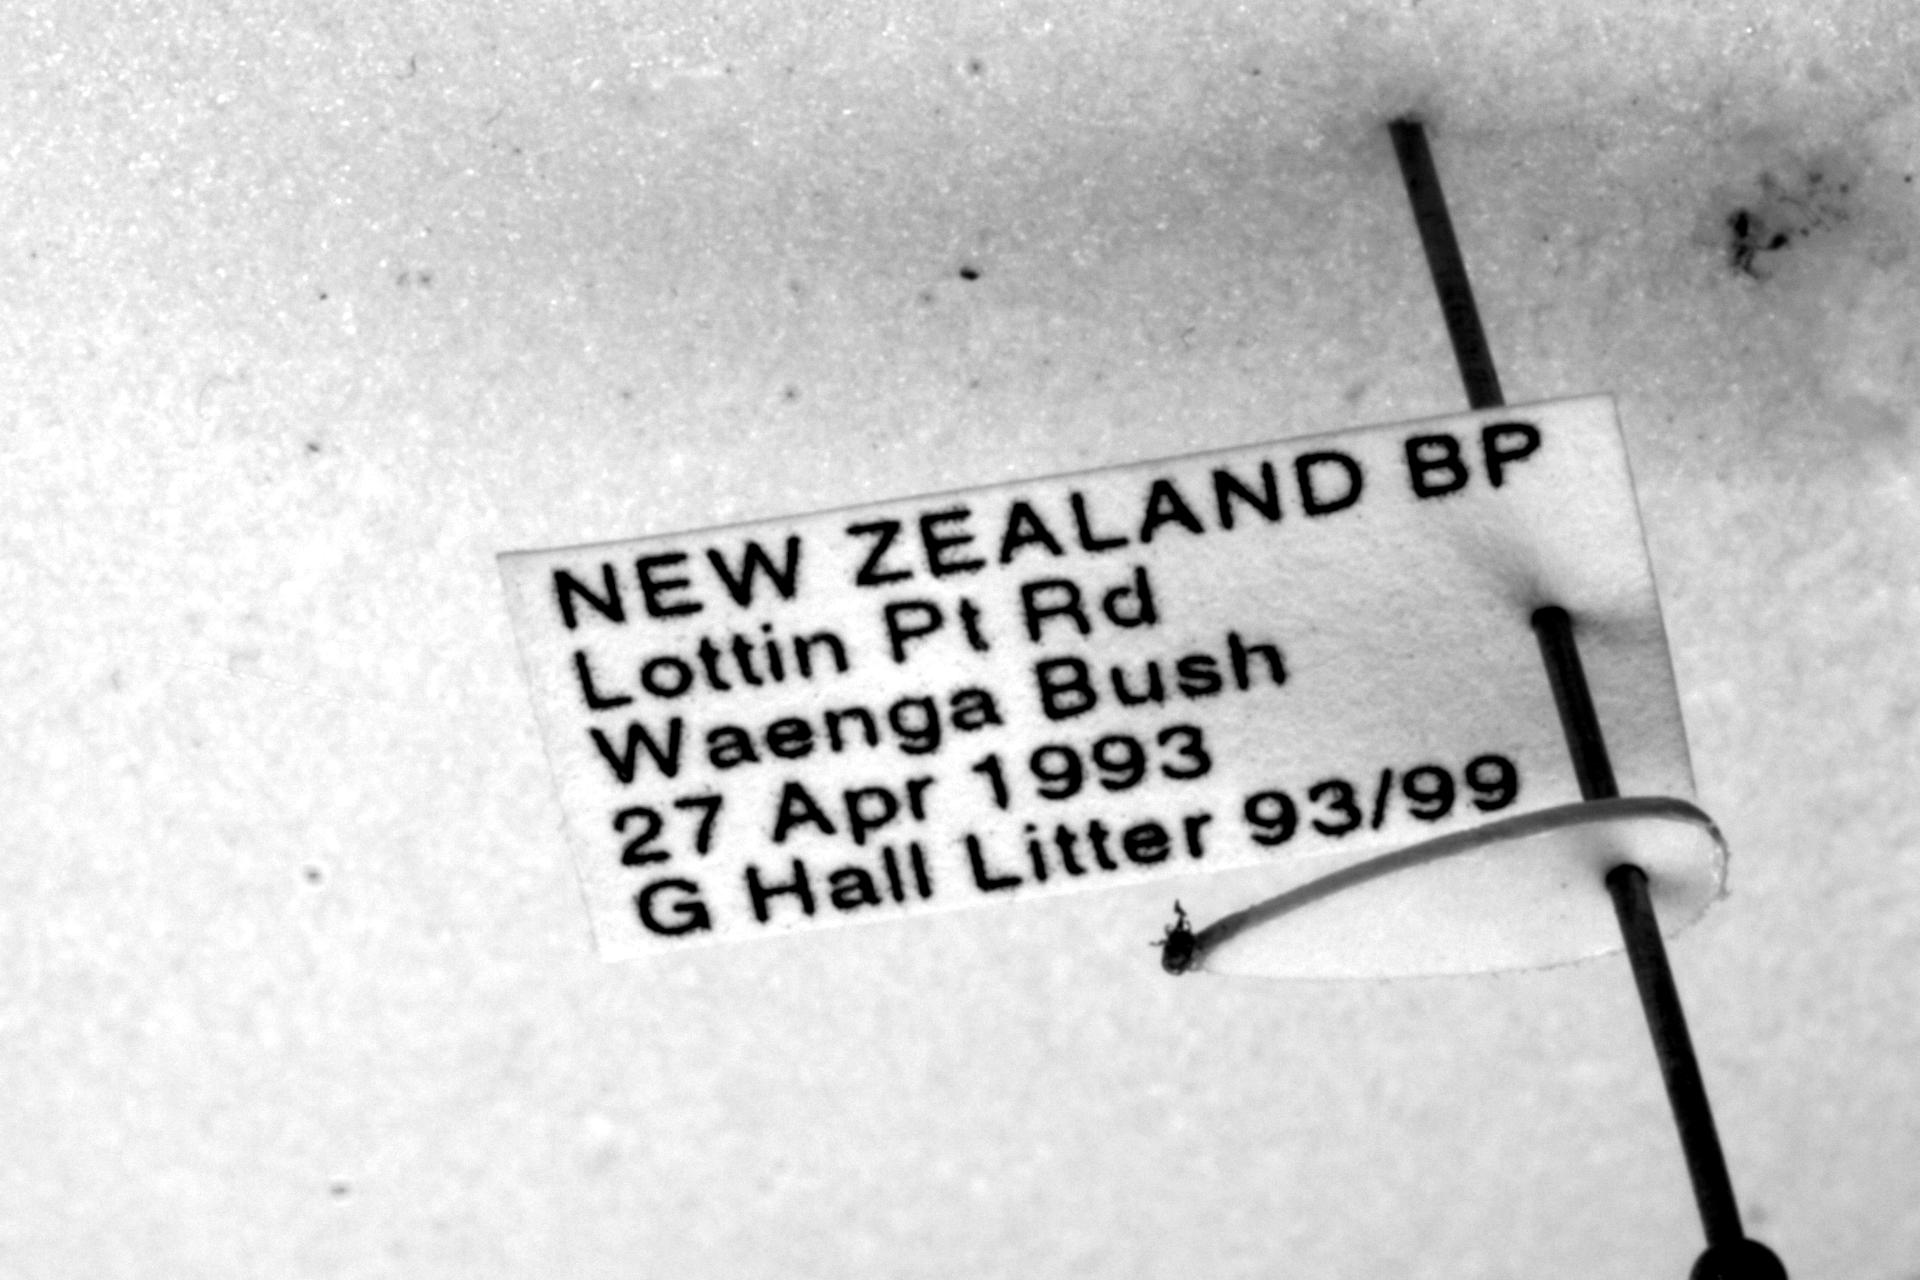typed_label: (499, 394, 1695, 956)
